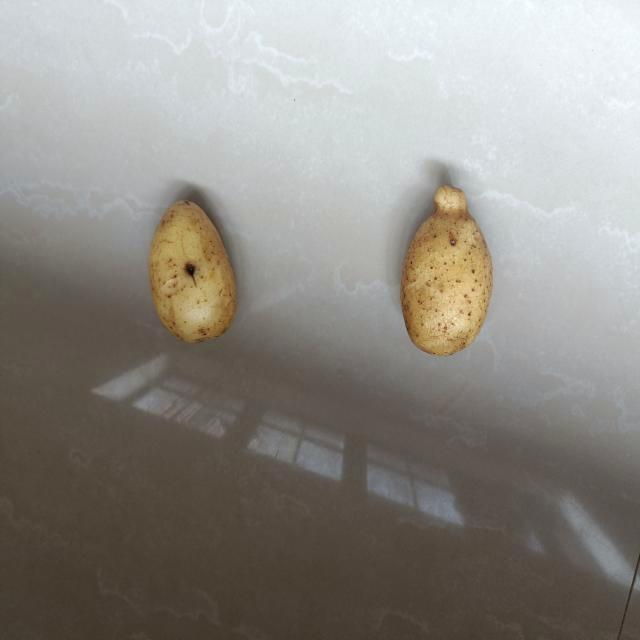potato: (396, 181, 501, 366), (145, 198, 244, 355)
